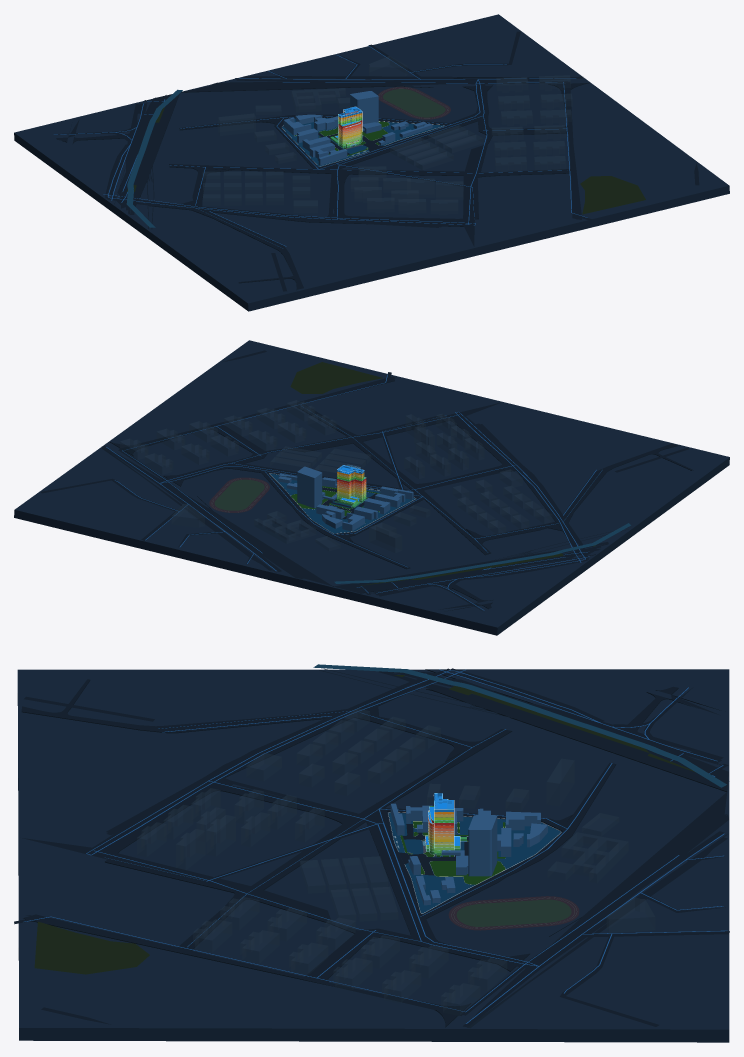
Rendered from fssy0820.glb.
3 views of the same model, one above another, from view 1: azimuth 30°, elevation 25°; view 2: azimuth 150°, elevation 25°; view 3: azimuth 270°, elevation 25° (orthographic). The views are drawn at different scales.
Parts seen in each view (by area): view 1: 地平面.001, 周边建筑6.001, 路-绘制.002, 路-2.002, 路-2-蓝-动效.002, 医院建筑.003, 绿化.002, 2-操场.001, 水.002, 占地面积, 楼2.001, 路.002; view 2: 地平面.001, 周边建筑6.001, 路-绘制.002, 路-2.002, 路-2-蓝-动效.002, 医院建筑.003, 绿化.002, 2-操场.001, 水.002, 楼2.001, 占地面积, 路.002; view 3: 地平面.001, 周边建筑6.001, 路-绘制.002, 路-2.002, 路-2-蓝-动效.002, 绿化.002, 2-操场.001, 医院建筑.003, 占地面积, 水.002, 楼2.001, 路.002 (+2 smaller).
Boxes of the visible parts, <box> form: 地平面.001: <box>14,14,729,311</box>; 周边建筑6.001: <box>203,56,572,214</box>; 路-绘制.002: <box>56,76,589,289</box>; 路-2.002: <box>54,31,699,291</box>; 路-2-蓝-动效.002: <box>54,45,587,248</box>; 医院建筑.003: <box>283,114,432,165</box>; 绿化.002: <box>126,107,645,214</box>; 2-操场.001: <box>378,86,450,119</box>; 水.002: <box>126,89,182,227</box>; 占地面积: <box>282,118,444,166</box>; 楼2.001: <box>350,91,381,137</box>; 路.002: <box>125,102,147,214</box>; 地平面.001: <box>14,340,729,635</box>; 周边建筑6.001: <box>120,400,551,552</box>; 路-绘制.002: <box>101,376,693,610</box>; 路-2.002: <box>41,350,688,611</box>; 路-2-蓝-动效.002: <box>106,374,628,610</box>; 医院建筑.003: <box>278,473,413,531</box>; 绿化.002: <box>290,362,595,586</box>; 2-操场.001: <box>209,477,269,512</box>; 水.002: <box>334,523,630,583</box>; 楼2.001: <box>297,466,336,508</box>; 占地面积: <box>269,473,415,533</box>; 路.002: <box>371,542,608,596</box>; 地平面.001: <box>17,669,729,1042</box>; 周边建筑6.001: <box>137,708,654,1015</box>; 路-绘制.002: <box>21,669,729,1028</box>; 路-2.002: <box>14,668,729,1027</box>; 路-2-蓝-动效.002: <box>24,668,727,1023</box>; 绿化.002: <box>34,675,695,974</box>; 2-操场.001: <box>448,896,579,930</box>; 医院建筑.003: <box>390,803,547,905</box>; 占地面积: <box>388,812,560,913</box>; 水.002: <box>313,664,726,787</box>; 楼2.001: <box>441,815,497,876</box>; 路.002: <box>379,671,723,765</box>.
Bounding box in the file's own units: 60.2 × 4.85 × 50.5.
